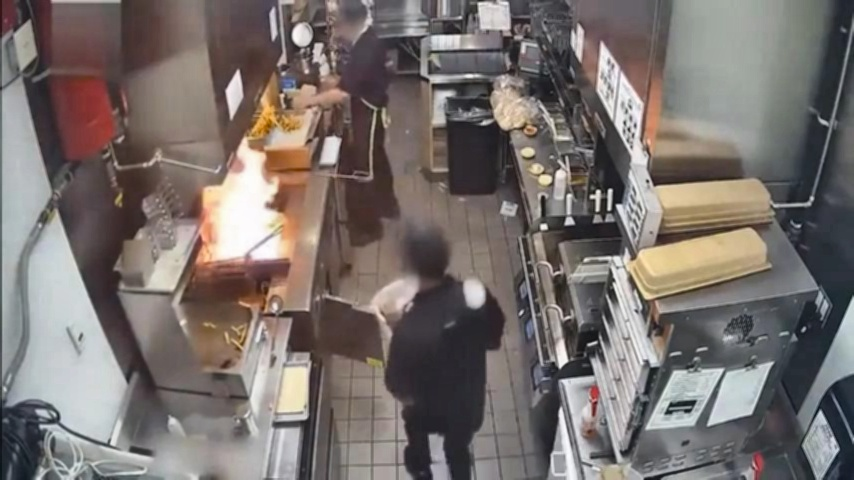fire: (191, 129, 304, 279)
